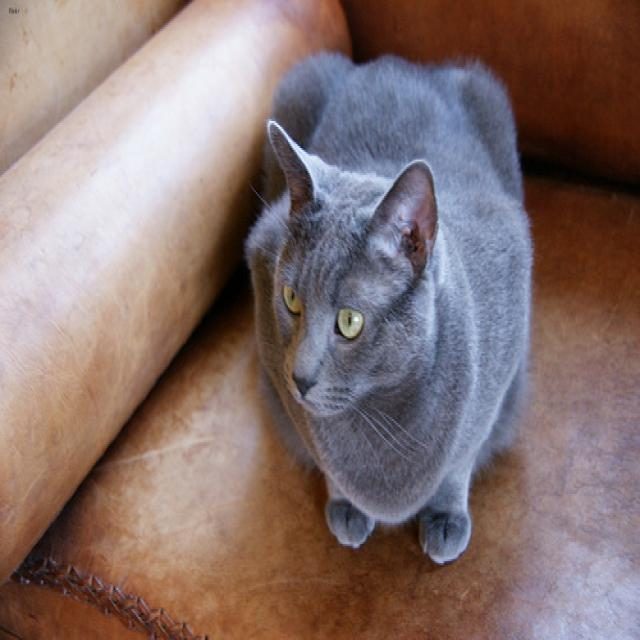Russian_Blue: (265, 119, 435, 413)
